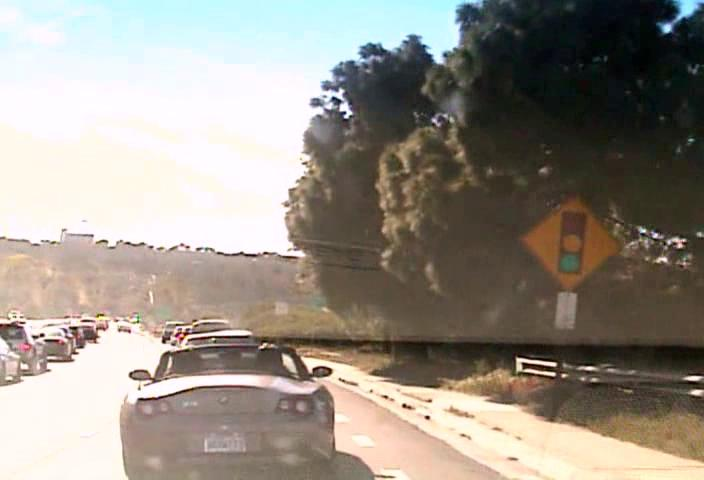signalAhead: (521, 193, 621, 290)
